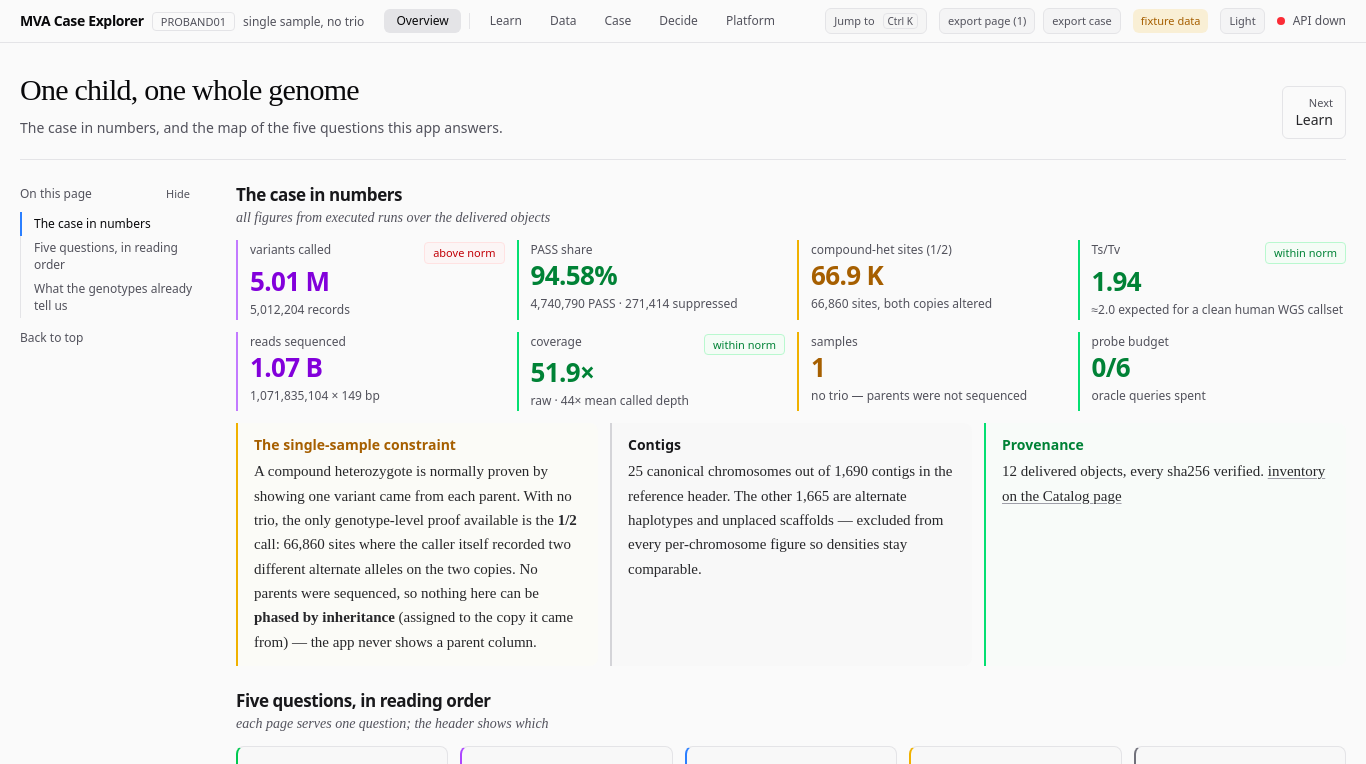
Test case: navigating with the nav bar › keeps working across three hops, so the second navigation is not a fluke
The width and height of the screenshot is (1366, 764).
Expected: the heading "One child, one whole genome" is shown, [20, 73, 359, 106]
Click the link "Platform". click: (750, 20)
box: [726, 12, 775, 29]
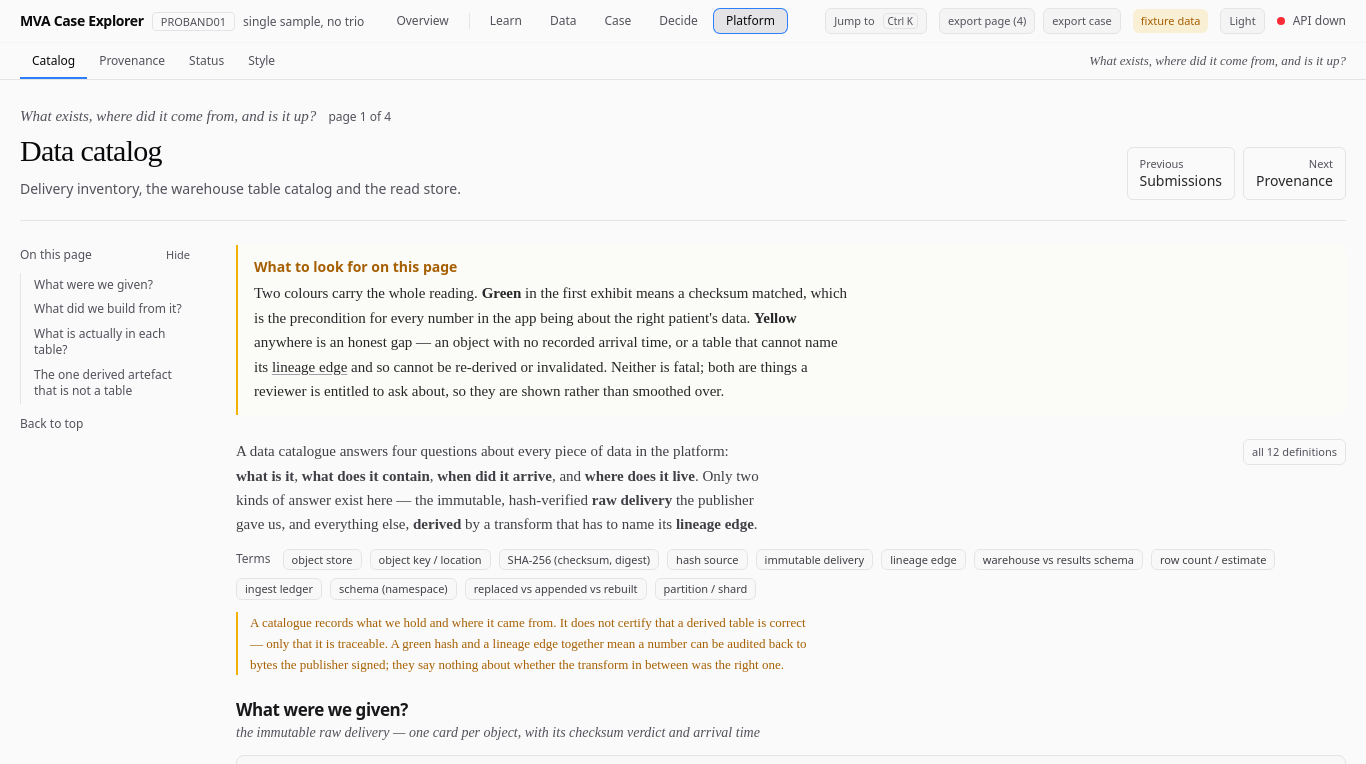
Click the link "Provenance". click: (132, 60)
box: [99, 52, 165, 69]
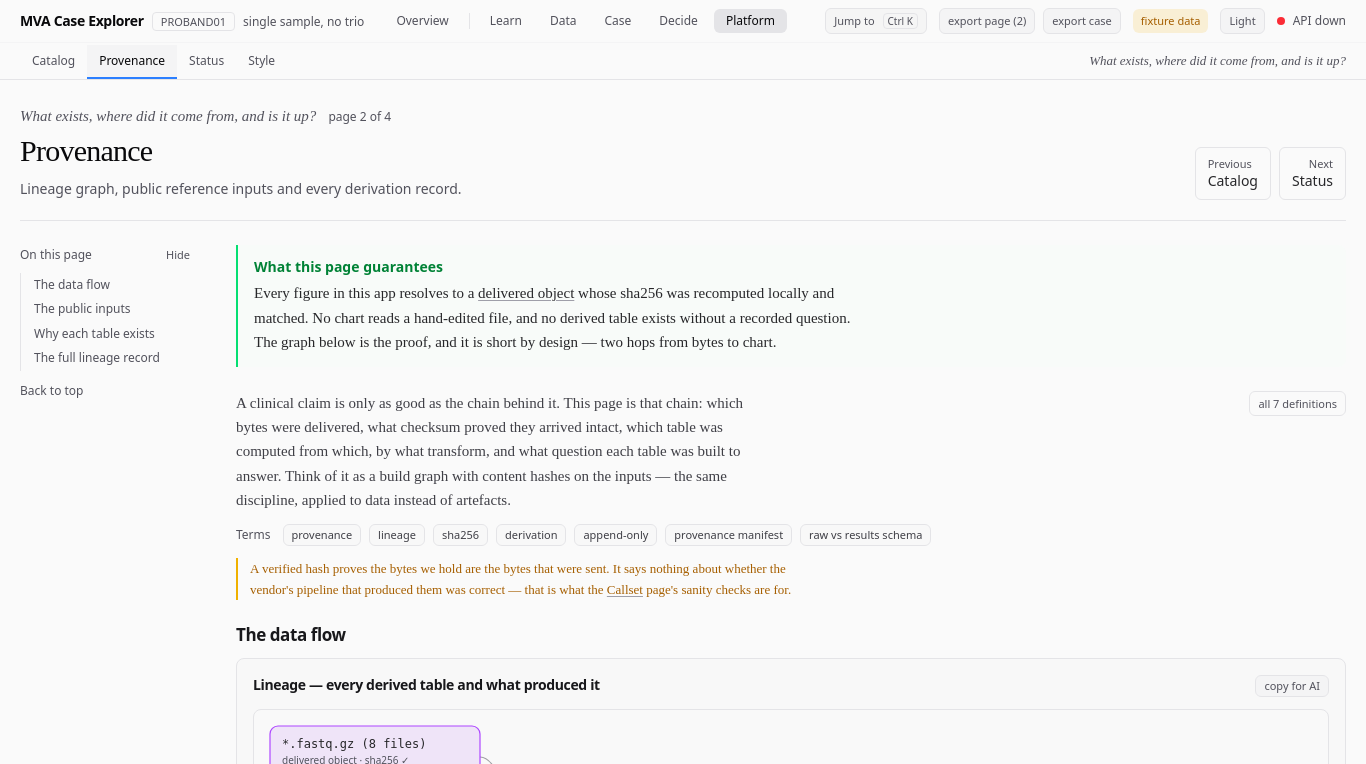
Expected: the heading "The data flow" is shown, [236, 623, 346, 646]
Click the link "Catalog". click: (54, 60)
box: [32, 52, 75, 69]
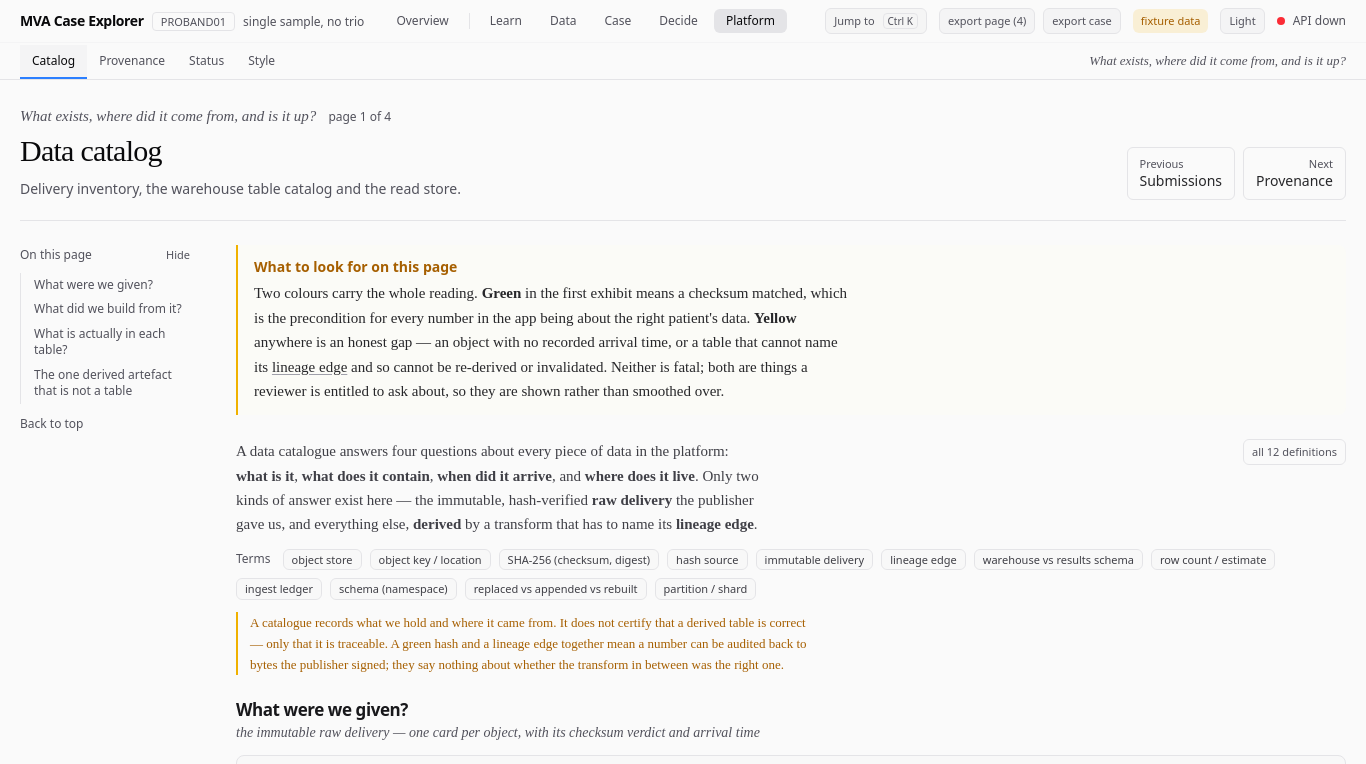
Expected: the heading "What were we given?" is shown, [236, 698, 408, 721]
Click the link "Provenance". click: (132, 60)
box: [99, 52, 165, 69]
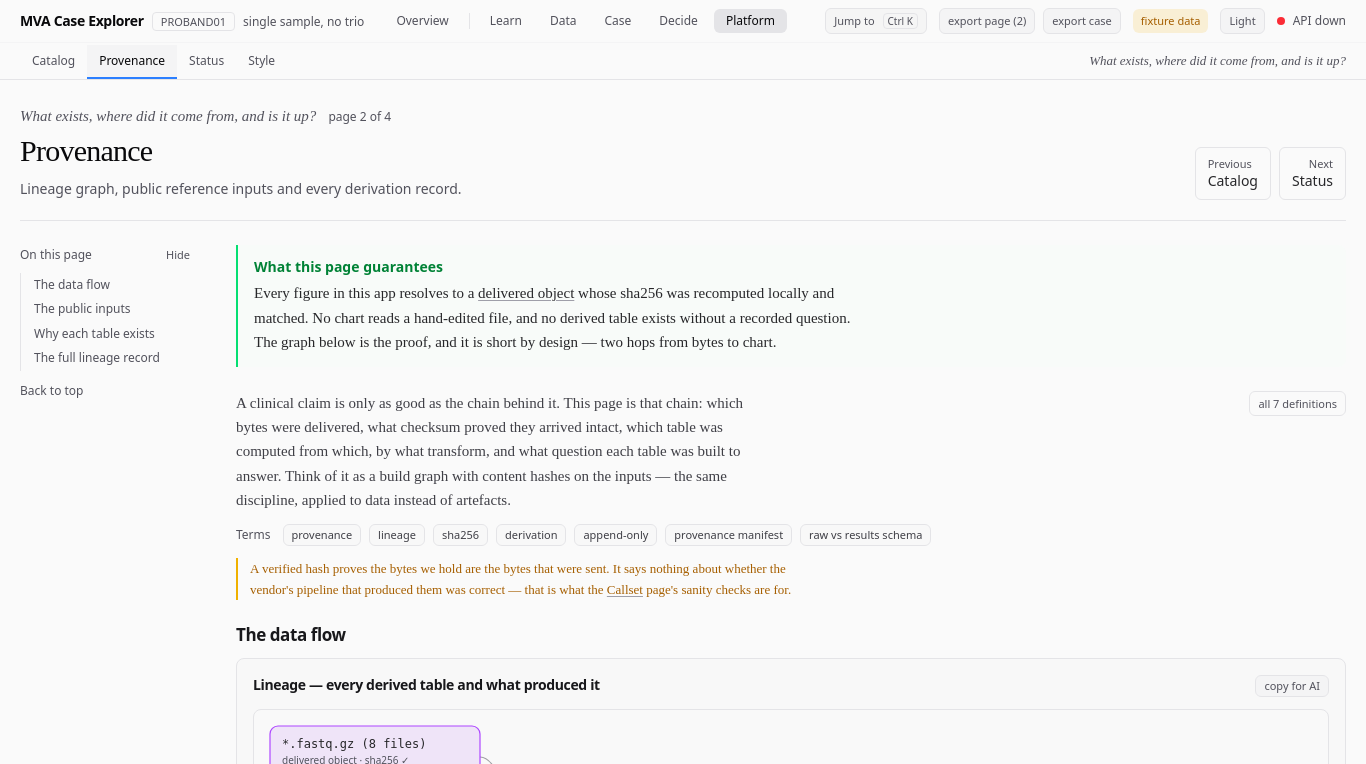
Expected: the heading "The data flow" is shown, [236, 623, 346, 646]
